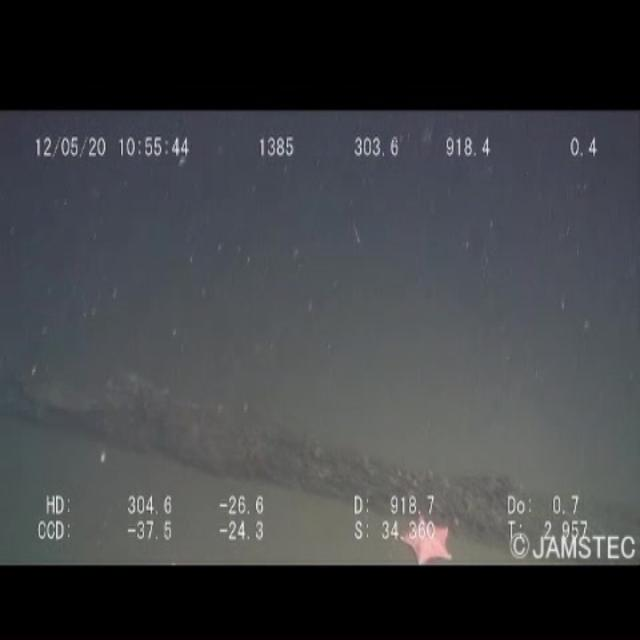Rope: (4, 346, 640, 554)
